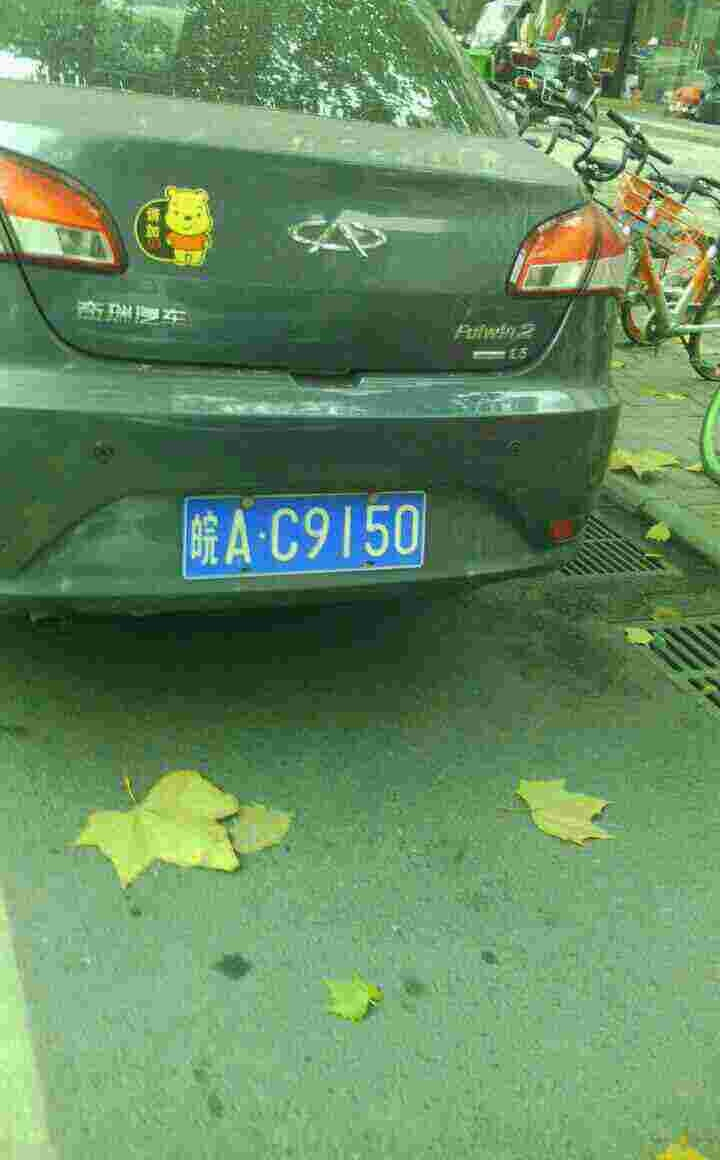license_plate: (189, 497, 422, 582)
